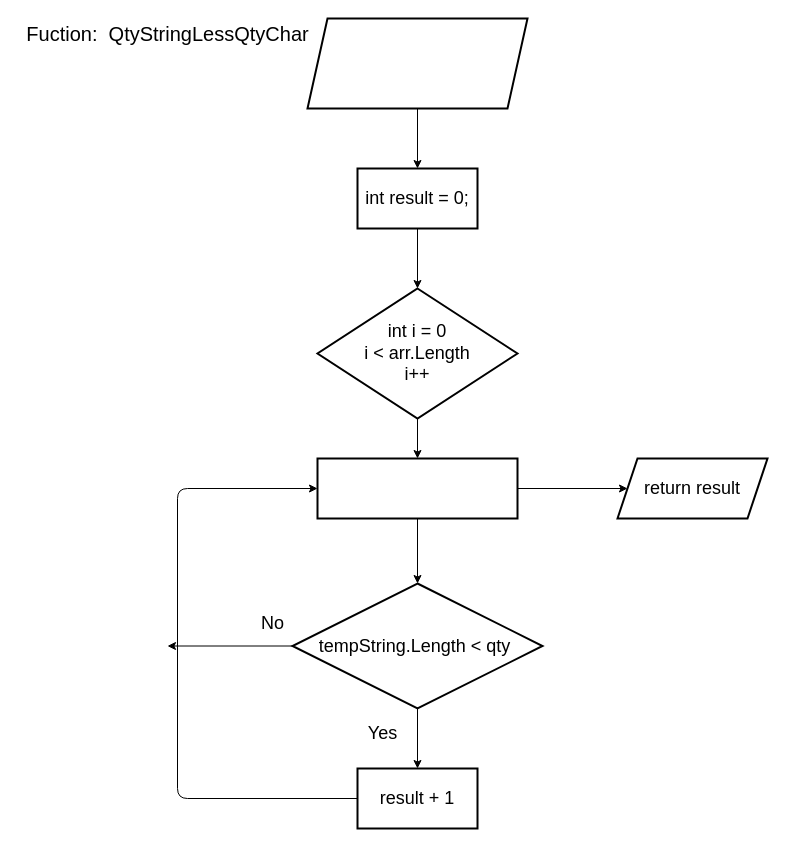
Image size: 785x846. Some labels were removed from this diagram. Each missing label, with the centre of its shape:
string tempString = arr[i]: point 417,488
string[] array int qty: point 417,63
